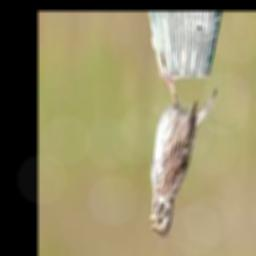Sparrow: (148, 77, 218, 238)
